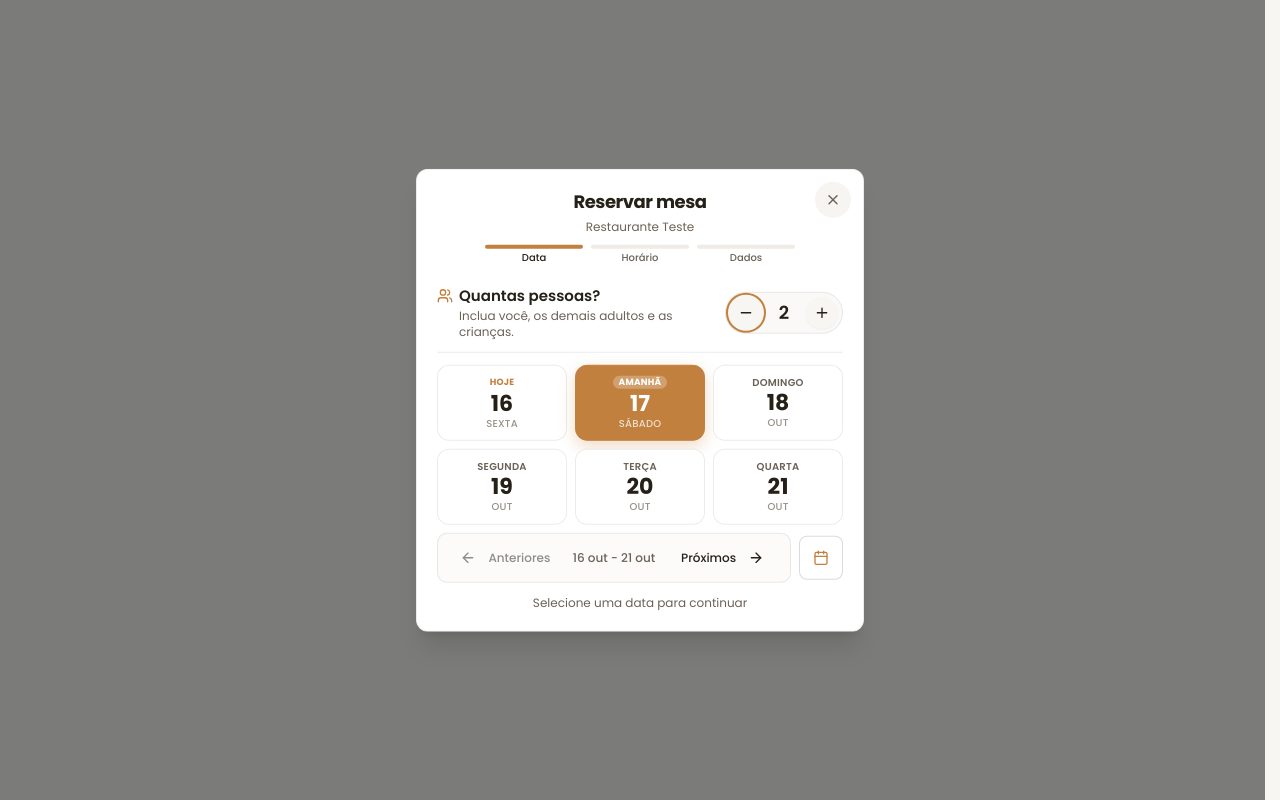
ReservationModal › encaminha grupos grandes ao WhatsApp e permite reduzir para seguir pelo site
Click the button "Amanhã 17 sábado".
click(640, 402)  # box x1=575 y1=364 x2=705 y2=440
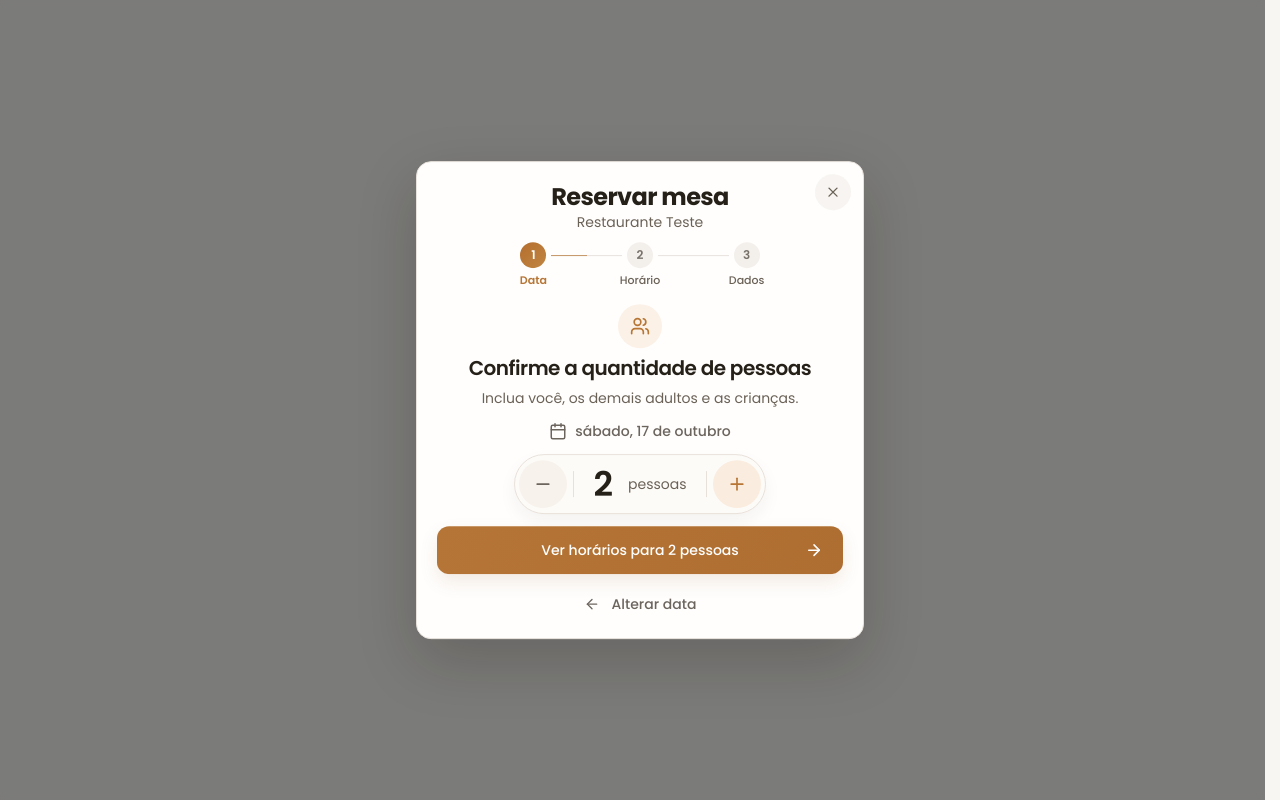
Click the button named "Aumentar número de pessoas".
click(737, 484)  # box x1=713 y1=460 x2=761 y2=508
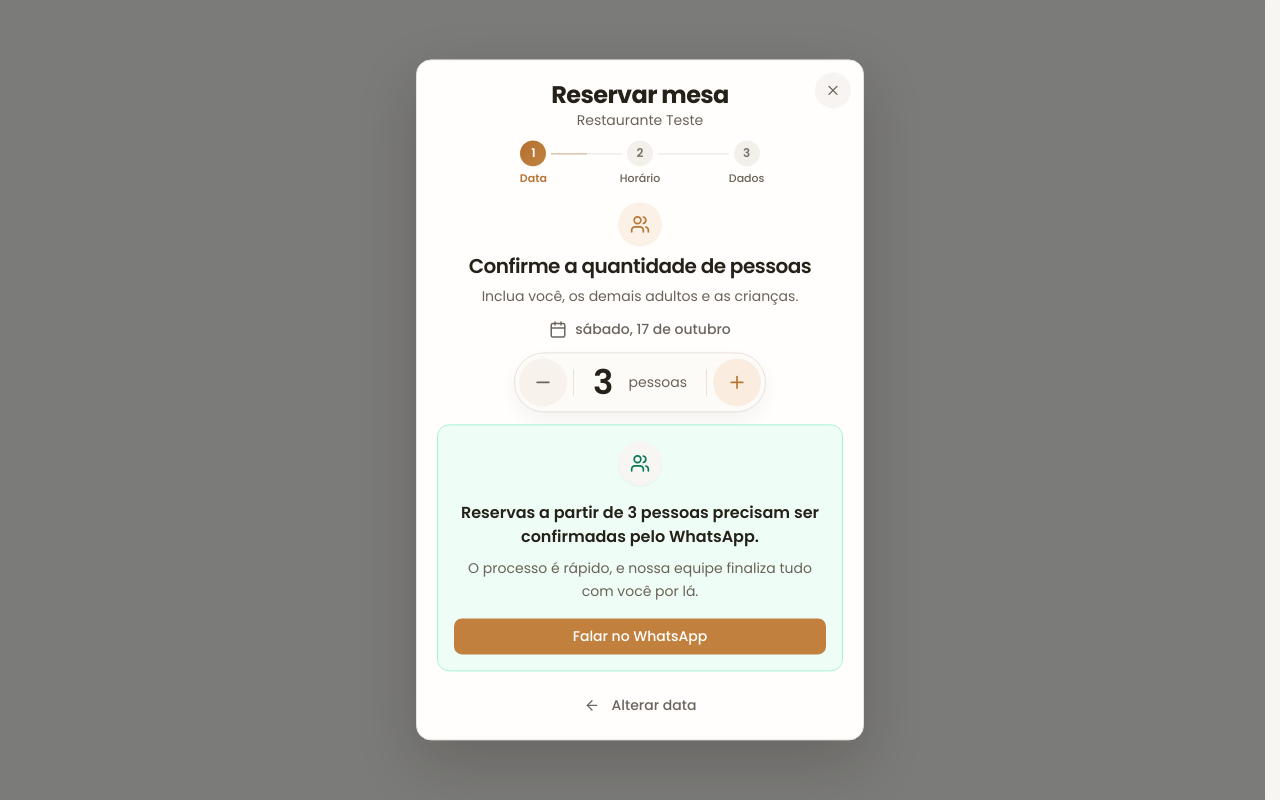
Expected: the button "18:00" is not shown
Expected: the button "Ver horários para" is gone
Click the button named "Diminuir número de pessoas".
click(543, 382)  # box x1=519 y1=358 x2=567 y2=406
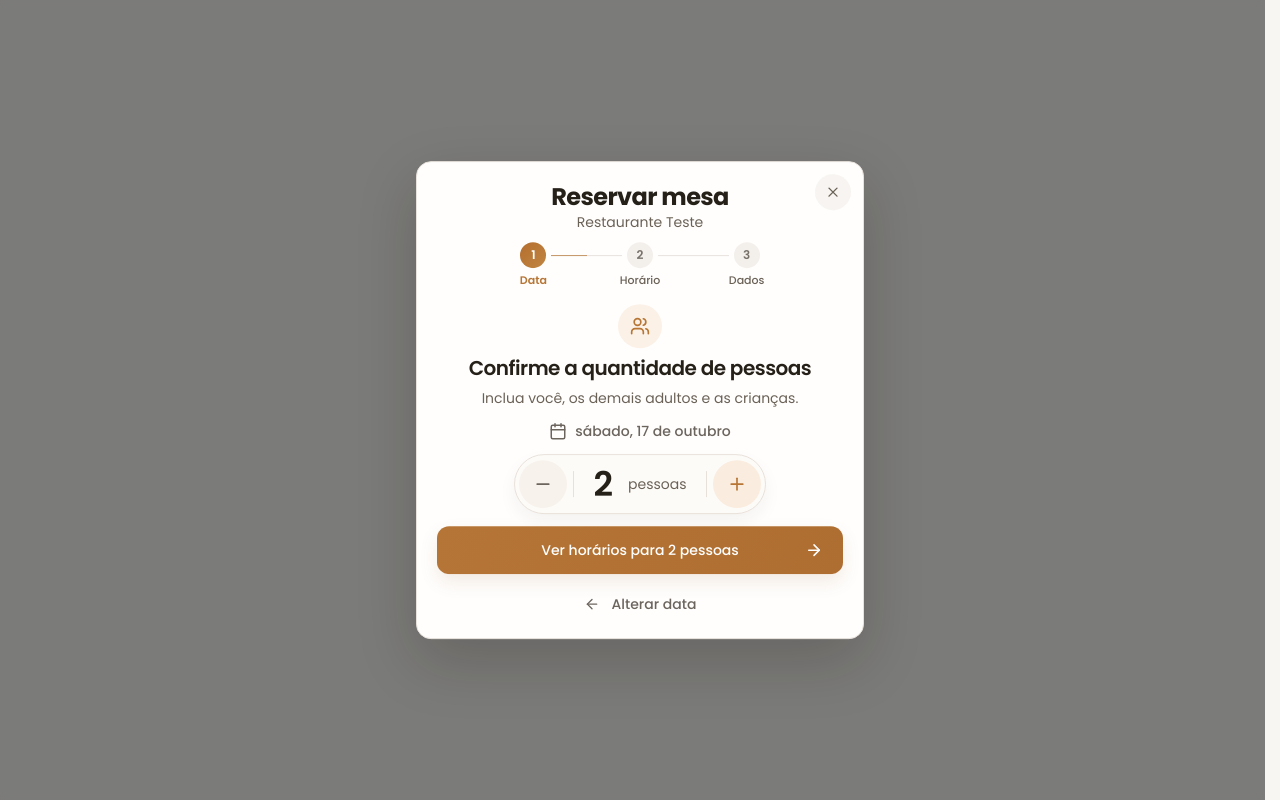
Click the button "Ver horários para 2 pessoas".
click(640, 550)  # box x1=437 y1=526 x2=843 y2=574
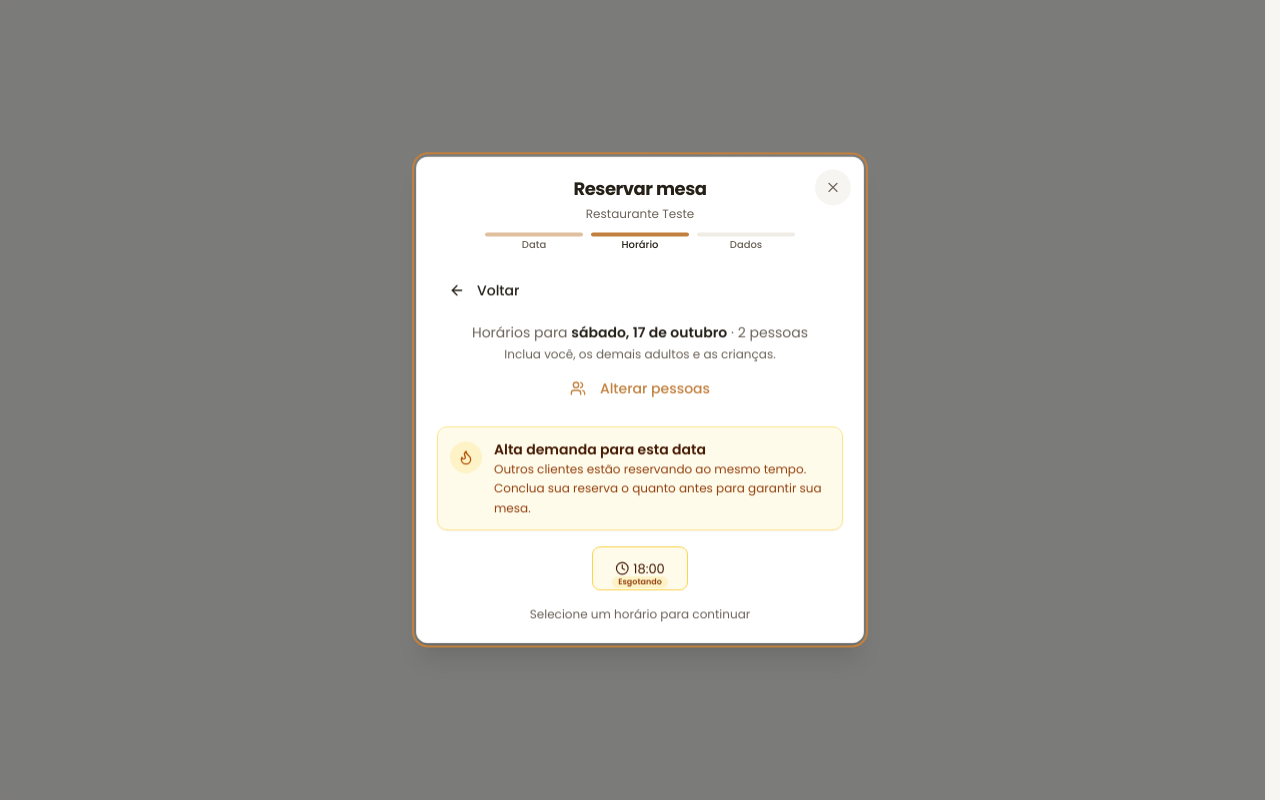
Expected: the button "18:00 Esgotando" is shown, x1=592 y1=547 x2=688 y2=591
